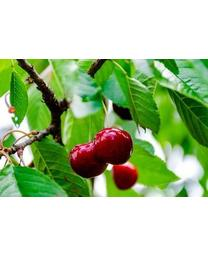cherry: (92, 127, 134, 164), (69, 142, 109, 178), (112, 160, 138, 190)
